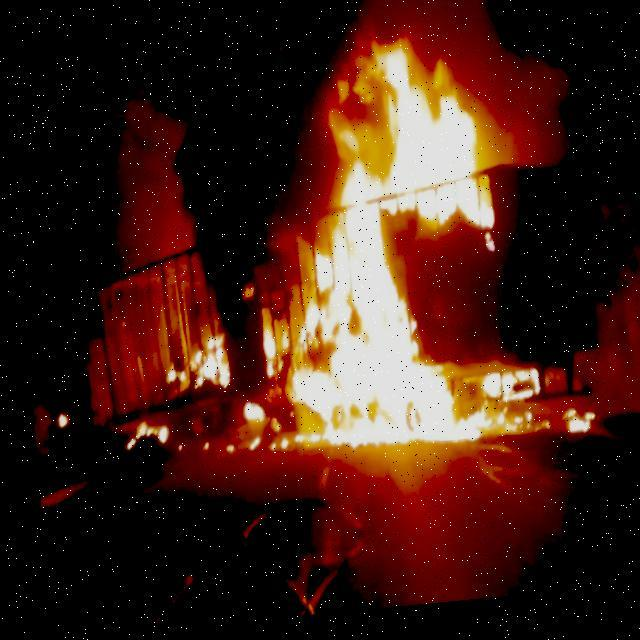Fire: (212, 34, 511, 457), (160, 340, 223, 400), (116, 421, 162, 456), (556, 419, 589, 444)
